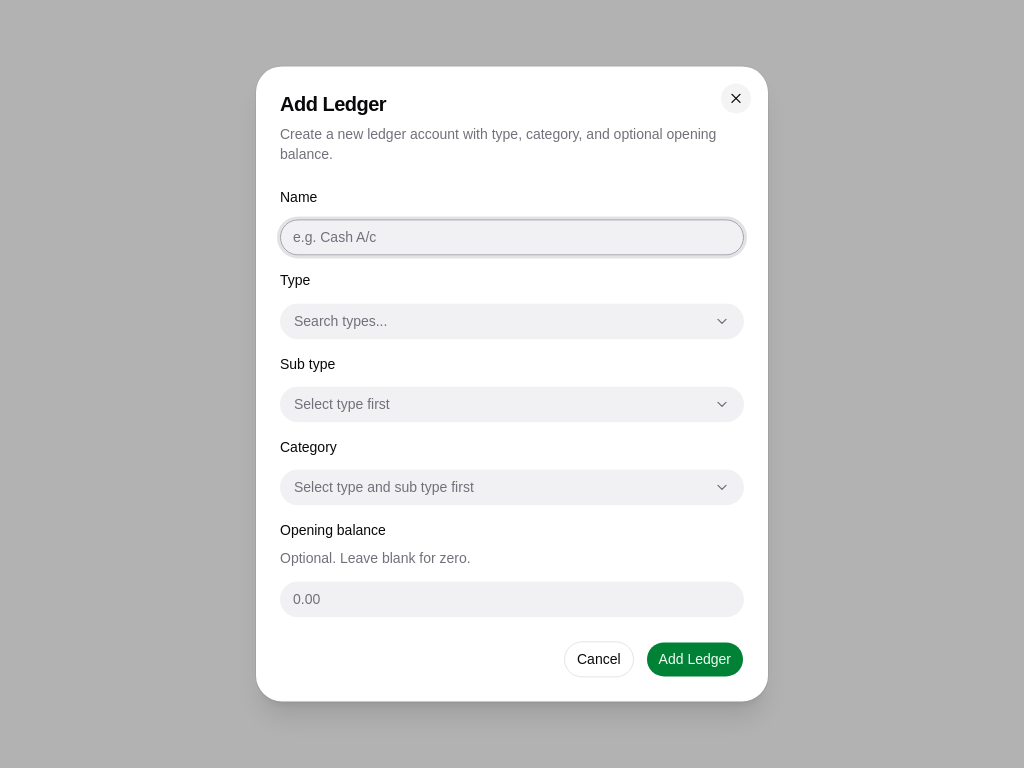
Test: AddLedgerDialog › cascades type selection into sub type and category fields
Expected: the dropdown named "sub type" reads "Select type first", top-left (281, 386), bottom-right (743, 422)
Step 1. Click the dropdown with id "add-ledger-type" → (341, 321), box top-left (281, 303), bottom-right (743, 339)
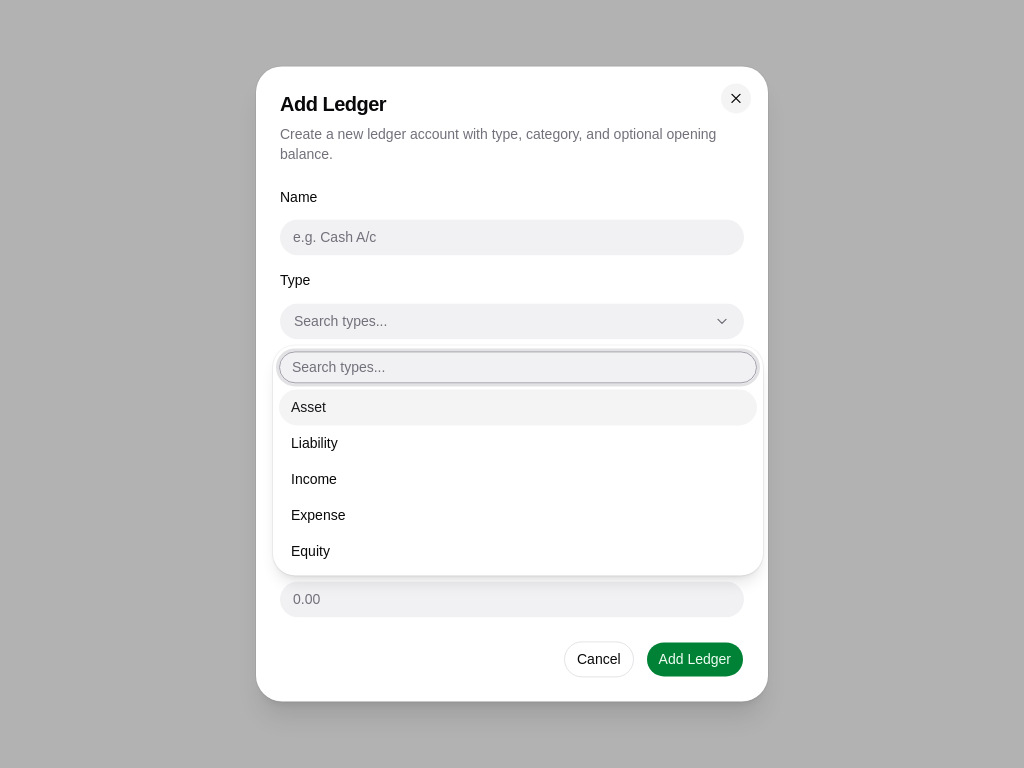
Expected: the dialog is shown, top-left (273, 345), bottom-right (763, 575)
Step 2. Click the option "Asset" → (309, 407), box top-left (279, 389), bottom-right (757, 425)
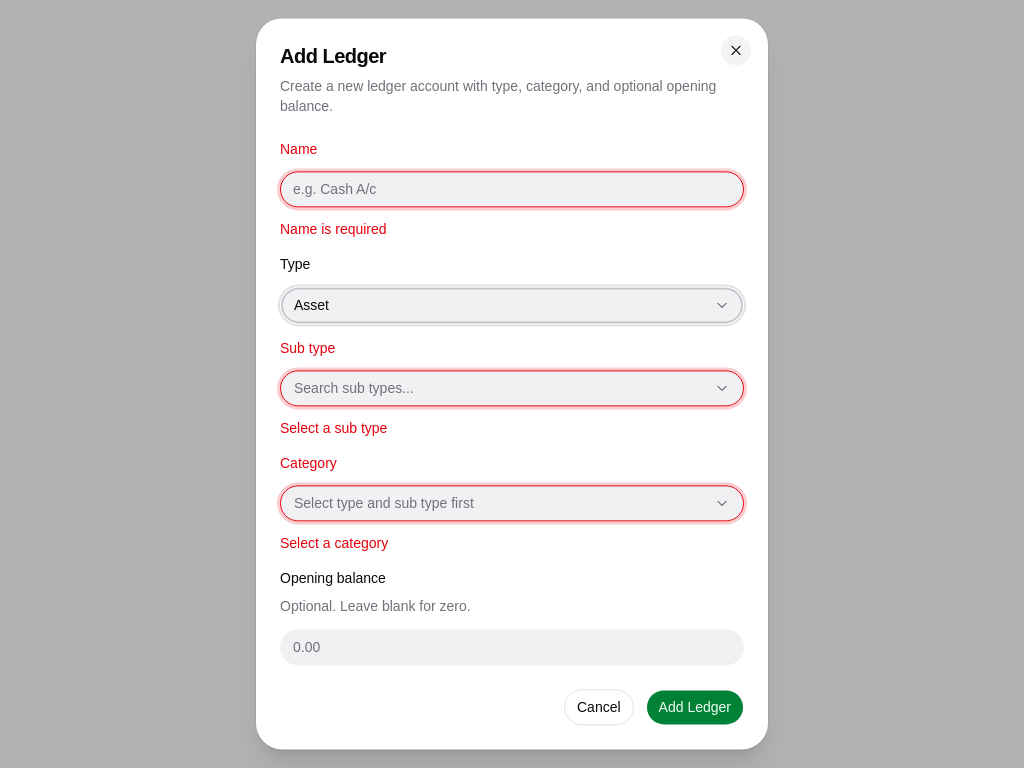
Expected: the dropdown labelled "Search sub types..." is shown
Step 3. Click the dropdown labelled "Search sub types..." → (354, 388), box top-left (281, 370), bottom-right (743, 406)
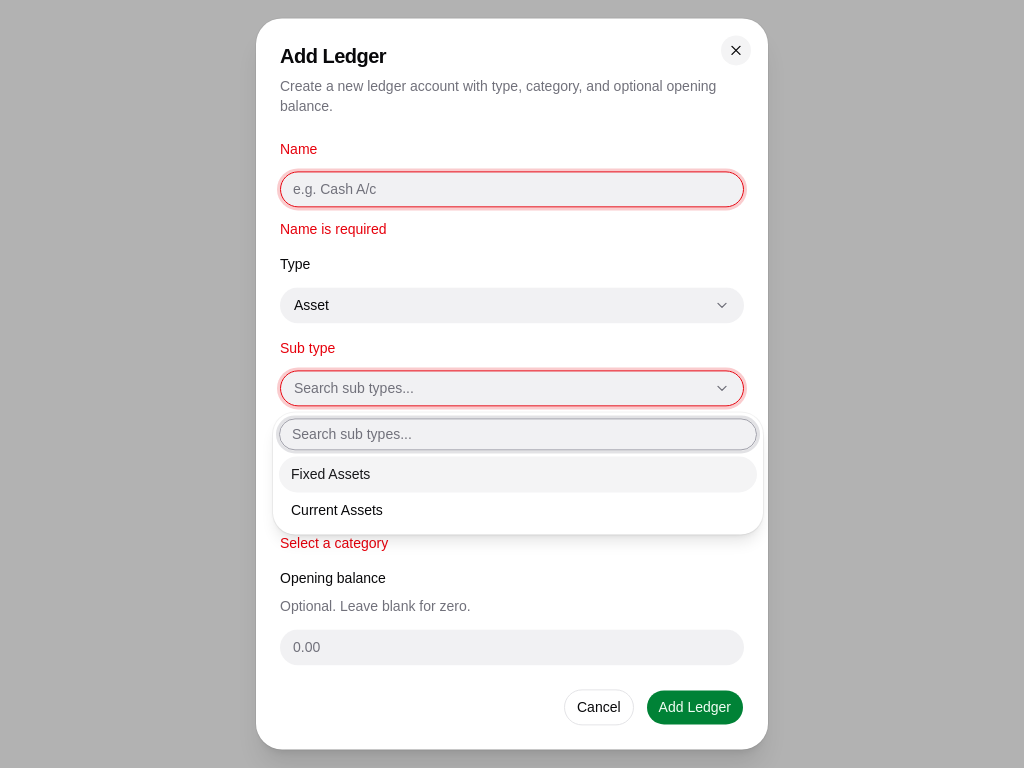
Expected: the dialog is shown, top-left (273, 412), bottom-right (763, 534)
Step 4. Click the option "Current Assets" → (337, 510), box top-left (291, 502), bottom-right (383, 518)
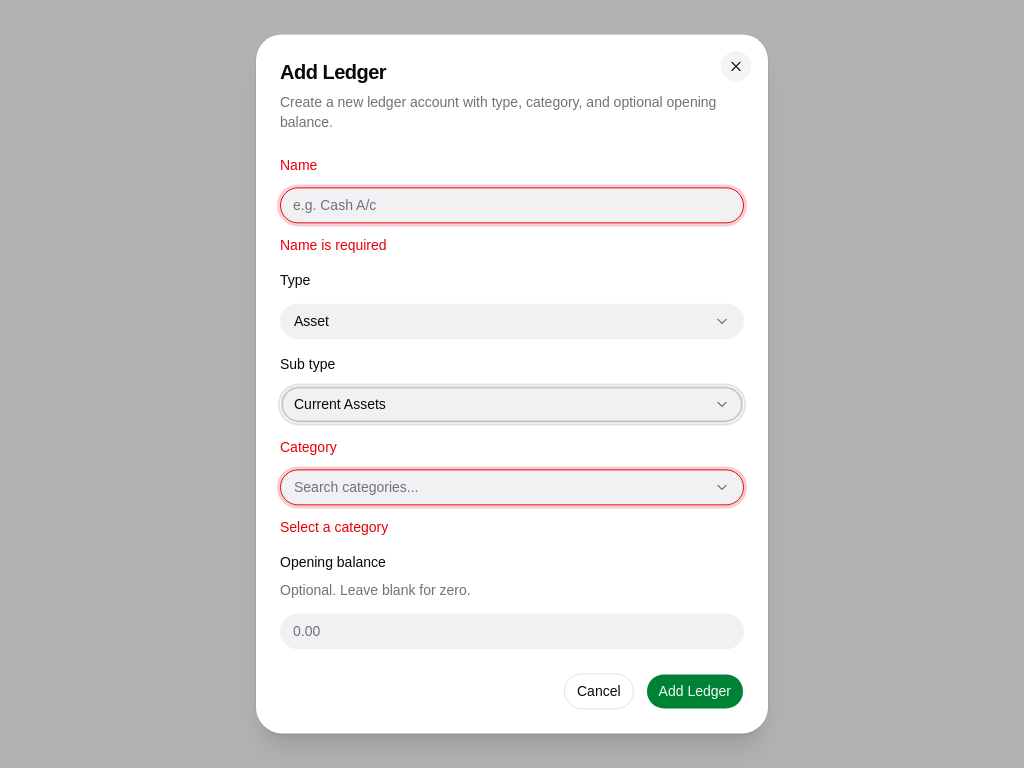
Expected: the dropdown named "category" reads "Search categories...", top-left (281, 469), bottom-right (743, 505)
Step 5. Click the dropdown with id "add-ledger-type" → (312, 321), box top-left (281, 303), bottom-right (743, 339)
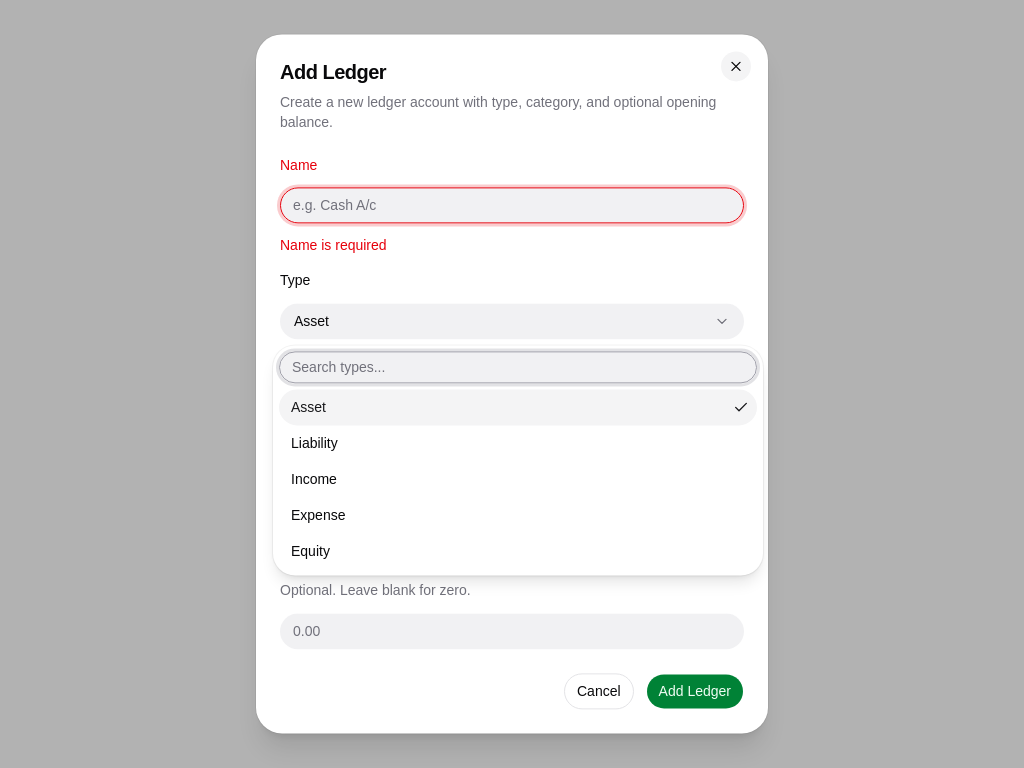
Expected: the dialog is shown, top-left (273, 345), bottom-right (763, 575)
Step 6. Click the option "Liability" → (314, 443), box top-left (291, 435), bottom-right (338, 451)
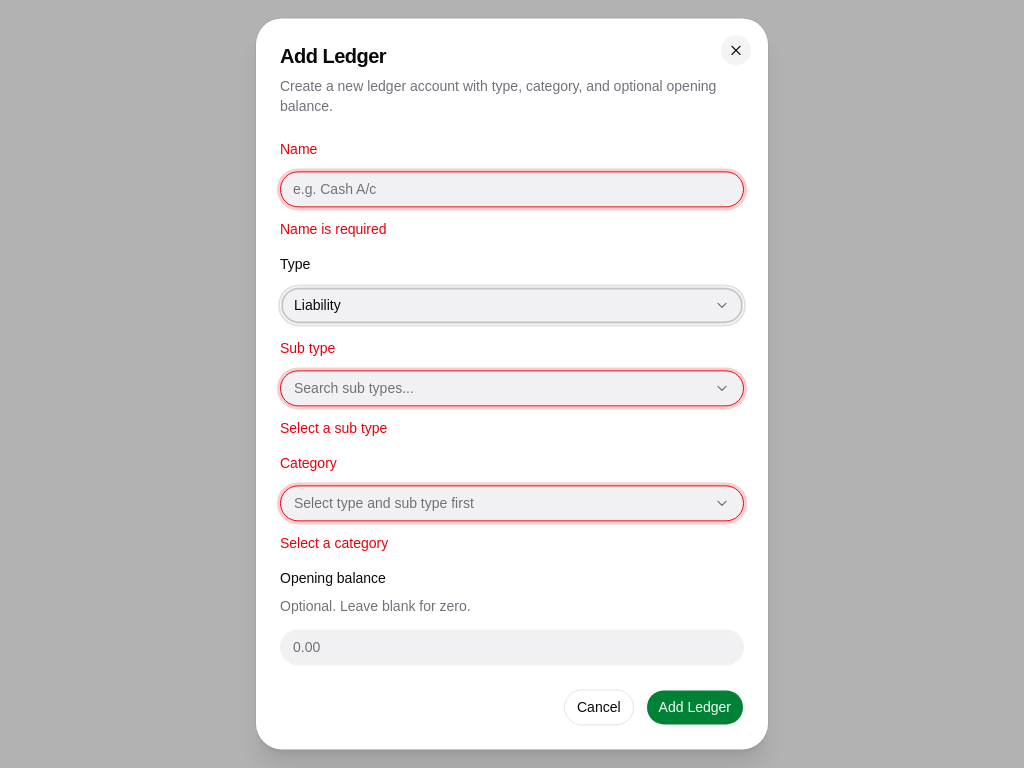
Expected: the dropdown labelled "Search sub types..." is shown, top-left (281, 370), bottom-right (743, 406)
Expected: the dropdown named "category" reads "Select type and sub type first", top-left (281, 485), bottom-right (743, 521)
